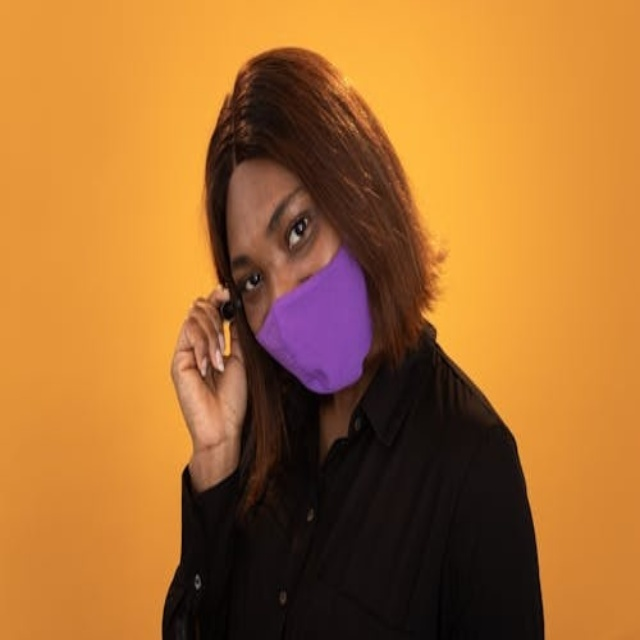Mascara: (248, 241, 375, 395)
Sin_gafas: (233, 186, 319, 306)
Sin_guantes: (160, 275, 256, 452)
